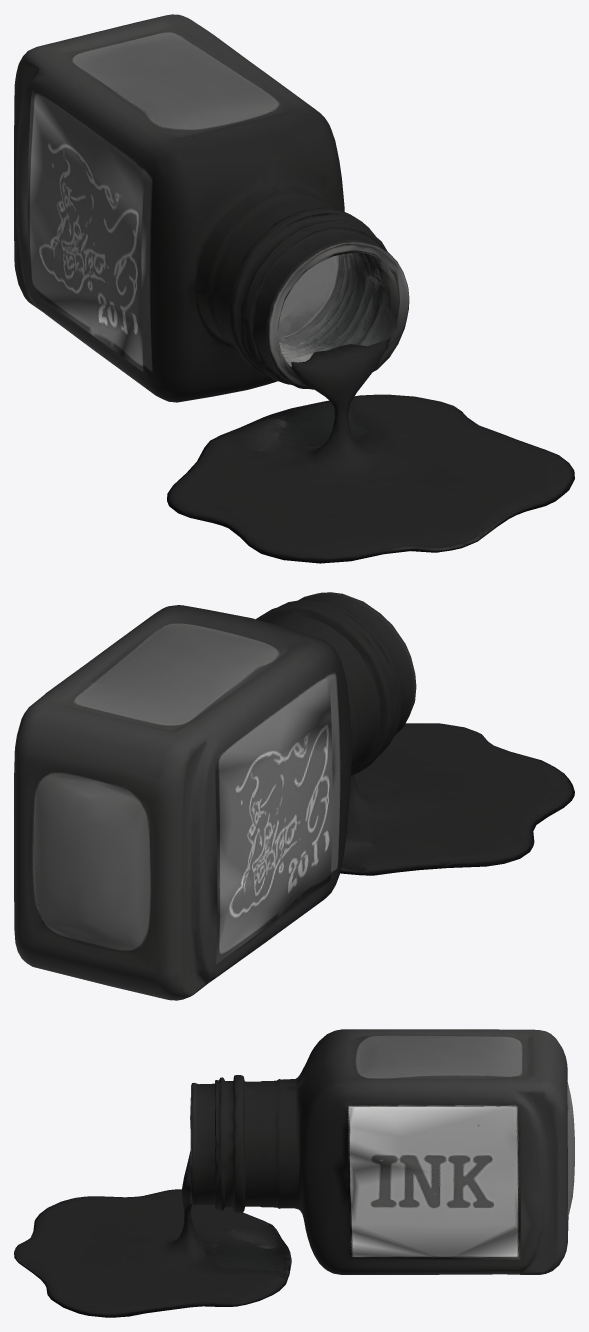
The model's file is ink+bottle+3d+model GoodTEX.fbx.
3 renders of one model, top to bottom at view 1: azimuth 30°, elevation 25°; view 2: azimuth 150°, elevation 25°; view 3: azimuth 270°, elevation 25°, orthographic. The views are drawn at different scales.
Parts seen in each view (by area): view 1: tripo_node_5768fb92; view 2: tripo_node_5768fb92; view 3: tripo_node_5768fb92.
Boxes of the visible parts, x1,y1,x2,y2 form: tripo_node_5768fb92: (14, 14, 574, 563); tripo_node_5768fb92: (14, 592, 574, 1000); tripo_node_5768fb92: (14, 1029, 574, 1317).
Size of the model in its own units: 0.535 by 0.4029 by 1.
Materials: 1 (1 with a texture image).
